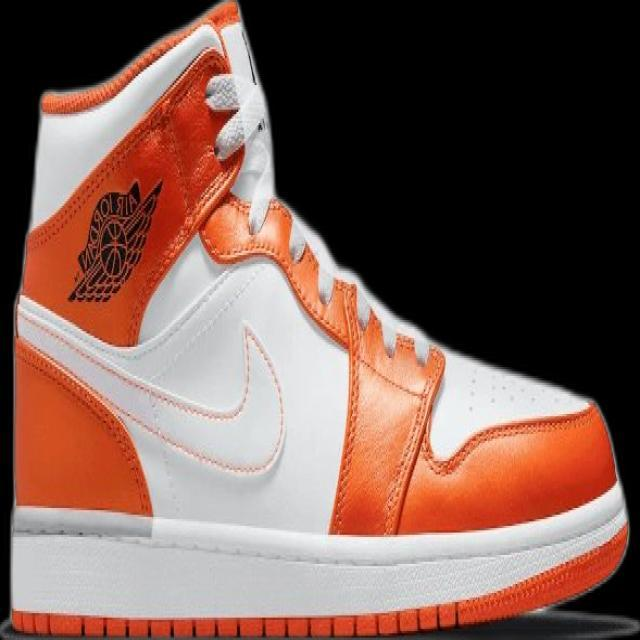J1_InsoleChar: (6, 0, 632, 638)
J1_ShoeLogo: (65, 176, 164, 304)
J1_StitchPattern: (7, 486, 630, 635), (199, 193, 447, 533), (13, 297, 288, 479), (326, 281, 447, 535), (38, 17, 227, 116), (7, 604, 460, 637), (428, 398, 601, 477), (201, 69, 277, 234), (201, 70, 265, 163)
